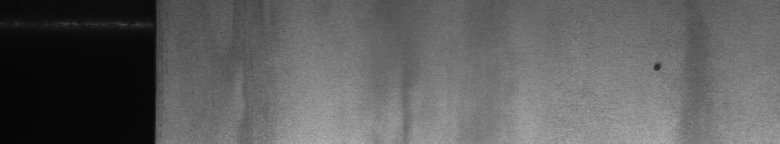fi: (648, 53, 664, 80)
